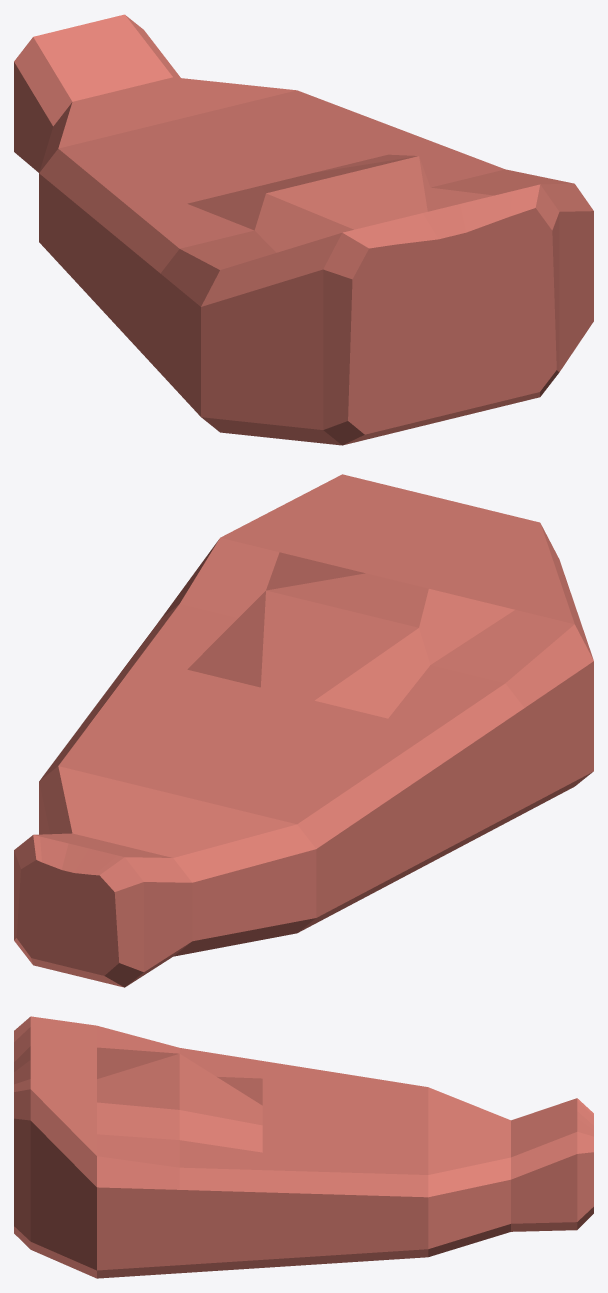
Rendered from calder_medium_b.glb.
3 renders of one model, top to bottom at view 1: azimuth 30°, elevation 25°; view 2: azimuth 150°, elevation 25°; view 3: azimuth 270°, elevation 25°, orthographic. The views are drawn at different scales.
Parts seen in each view (by area): view 1: calder_medium_b; view 2: calder_medium_b; view 3: calder_medium_b.
Part boxes in pixels (box(x1,y1,x2,y2)): calder_medium_b: box(14, 14, 593, 445); calder_medium_b: box(14, 474, 593, 987); calder_medium_b: box(14, 1016, 593, 1278).
Size of the model in its own units: 3.6 by 1.86 by 6.1.
